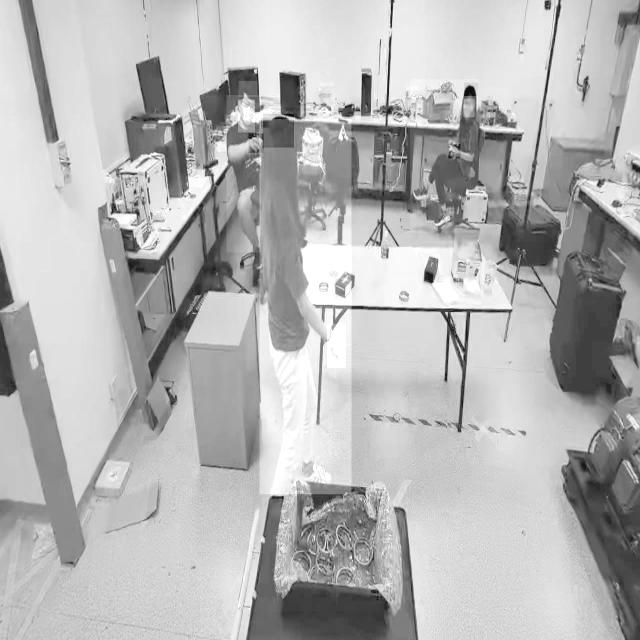face_mask: (238, 100, 255, 132)
face_nomask: (463, 99, 475, 118)
hand_glove: (326, 323, 346, 369)
hand_noglove: (248, 133, 264, 154), (448, 144, 460, 159)
head_nohelmet: (262, 114, 294, 148), (238, 81, 258, 98), (464, 83, 478, 97)
person: (259, 119, 351, 495), (410, 79, 478, 234), (226, 95, 261, 253)
